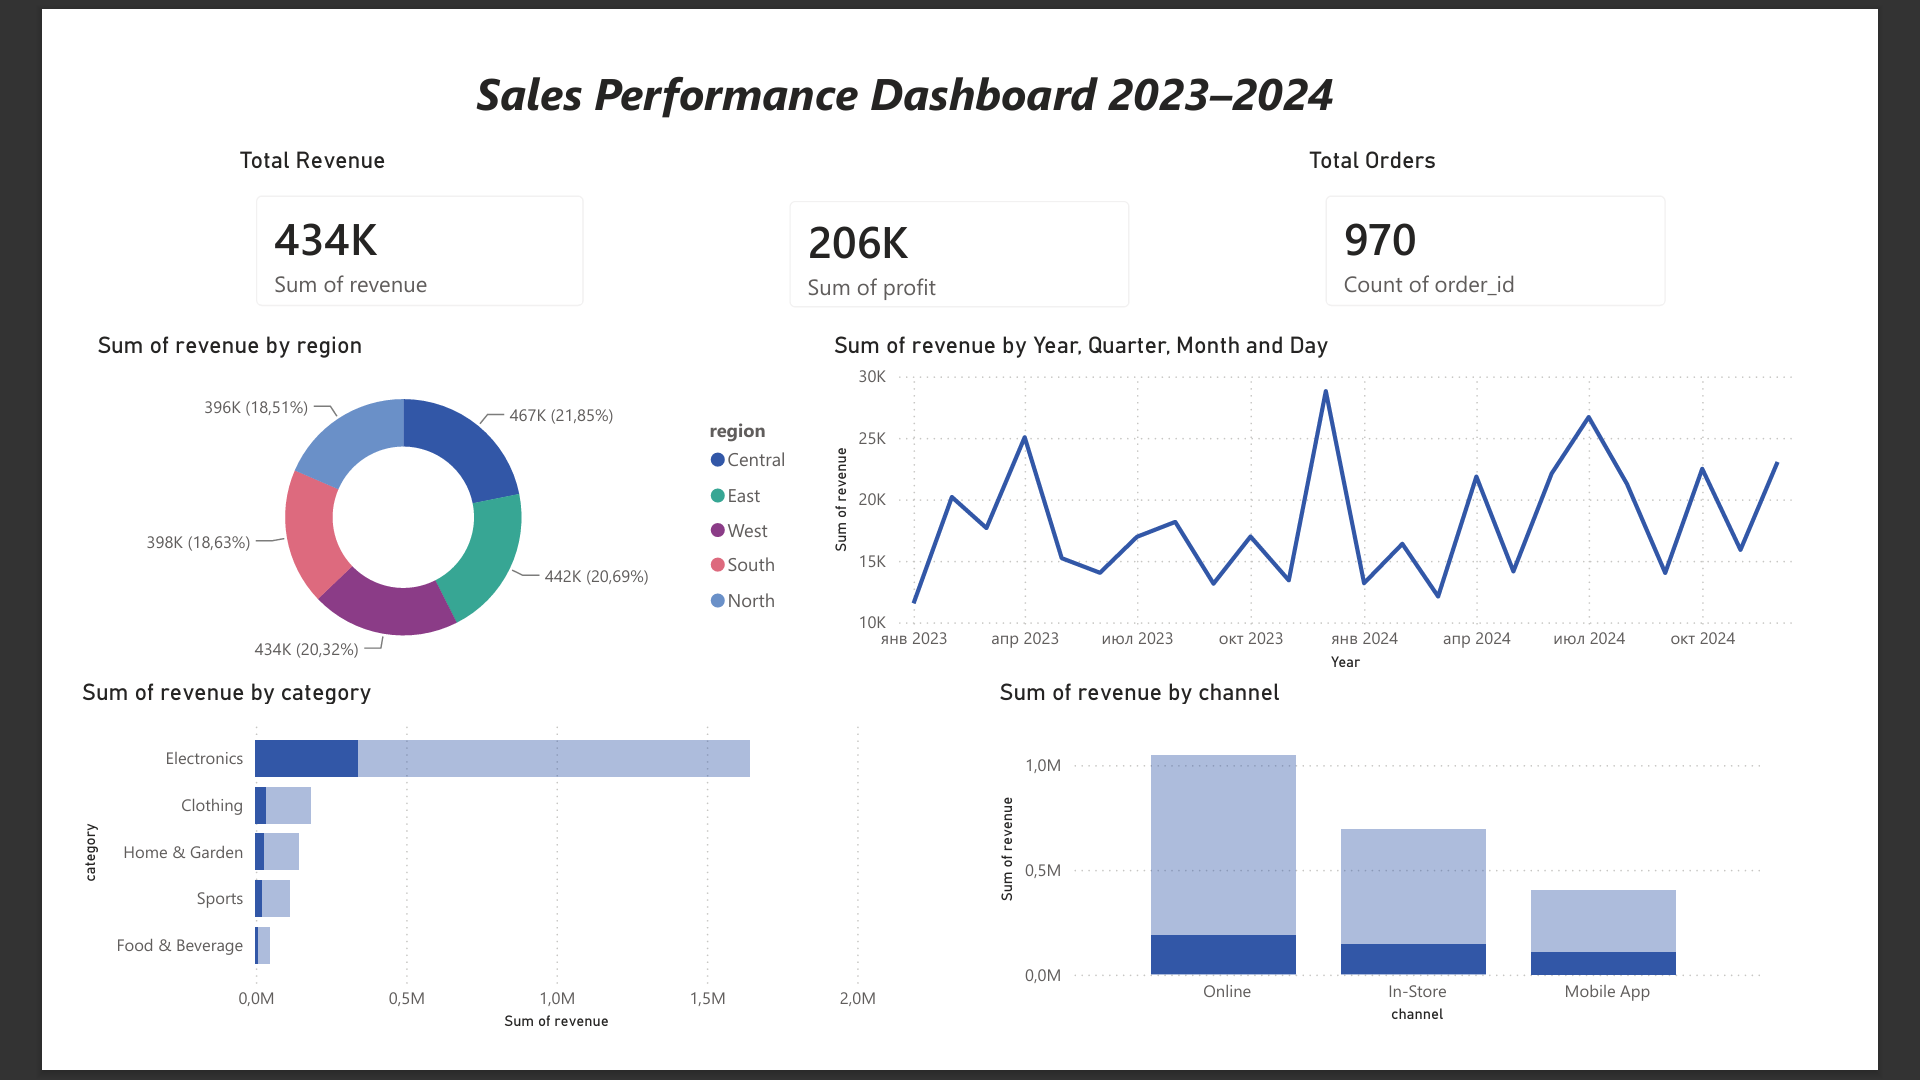

What the dashboard file says about the page in this screenshot:
{"tool":"powerbi","page":{"name":"Page 1","canvas":[1280,720],"ordinal":0},"visuals":[{"type":"cardVisual","title":"Total Revenue","fields":{"Data":["Sum(sales.revenue)"]},"box":[113.8,75,271.2,133.8],"z":0},{"type":"cardVisual","fields":{"Data":["Sum(sales.profit)"]},"box":[500,97.5,280,111.2],"z":1000},{"type":"cardVisual","title":"Total Orders","fields":{"Data":["CountNonNull(sales.order_id)"]},"box":[887.5,75,280,133.8],"z":2000},{"type":"lineChart","fields":{"Y":["Sum(sales.revenue)"],"Category":["sales.month_name.Variation.Date Hierarchy.Year","sales.month_name.Variation.Date Hierarchy.Quarter","sales.month_name.Variation.Date Hierarchy.Month","sales.month_name.Variation.Date Hierarchy.Day"]},"box":[543.8,208.8,717.5,251.2],"z":2001},{"type":"clusteredBarChart","fields":{"Category":["sales.category"],"Y":["Sum(sales.revenue)"]},"box":[0,460,585,260],"z":2002},{"type":"donutChart","fields":{"Category":["sales.region"],"Y":["Sum(sales.revenue)"]},"box":[11.2,208.8,517.5,251.2],"z":2003},{"type":"clusteredColumnChart","fields":{"Category":["sales.channel"],"Y":["Sum(sales.revenue)"]},"box":[663.8,460,560,255],"z":2004},{"type":"textbox","box":[285,8.8,711.2,66.2],"z":2005}]}

Visuals, with their boxes in screenshot pixels (x1, y1, x2, y2), scaled from the page's 1280x720 canvas onto the 1920x1080 screenshot:
"Total Revenue" cardVisual: rect(171, 112, 578, 313)
cardVisual - Sum(sales.profit): rect(750, 146, 1170, 313)
"Total Orders" cardVisual: rect(1331, 112, 1751, 313)
lineChart - Sum(sales.revenue) x sales.month_name.Variation.Date Hierarchy.Year: rect(816, 313, 1892, 690)
clusteredBarChart - sales.category x Sum(sales.revenue): rect(0, 690, 878, 1079)
donutChart - sales.region x Sum(sales.revenue): rect(17, 313, 793, 690)
clusteredColumnChart - sales.channel x Sum(sales.revenue): rect(996, 690, 1836, 1072)
textbox: rect(428, 13, 1494, 112)
